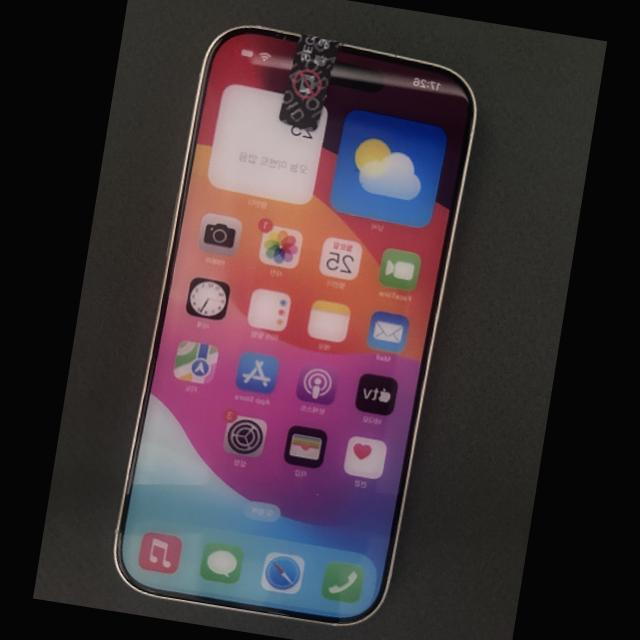phone: (115, 28, 474, 622)
sticker: (279, 32, 341, 132)
